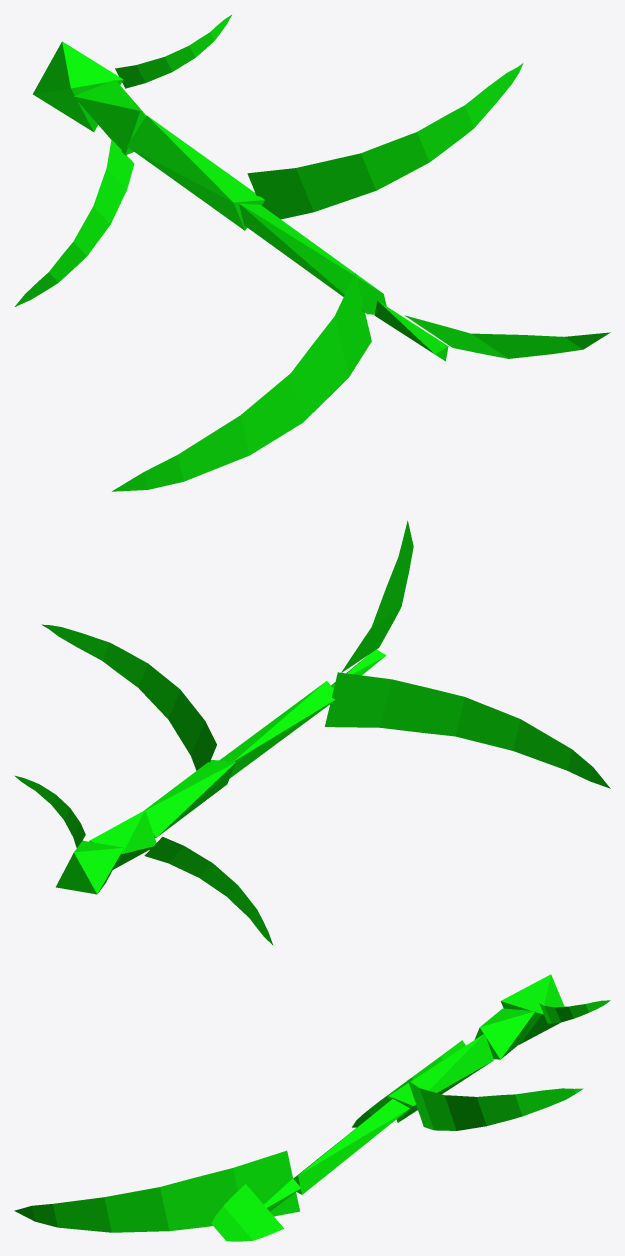
The model's file is usm_14_2.5D_2018-08-02_0.obj.
3 views of the same model, one above another, from view 1: azimuth 30°, elevation 25°; view 2: azimuth 150°, elevation 25°; view 3: azimuth 330°, elevation 25° (orthographic). The views are drawn at different scales.
Parts seen in each view (by area): view 1: vid_10, vid_8, vid_7, vid_9, vid_6, vid_3, vid_12, vid_5, vid_4, vid_11; view 2: vid_10, vid_8, vid_7, vid_9, vid_6, vid_12, vid_3, vid_5, vid_4; view 3: vid_10, vid_8, vid_7, vid_9, vid_12, vid_3, vid_5, vid_4, vid_6, vid_11.
Part boxes in pixels (x1,y1,x2,y2): vid_10: (112, 273, 371, 491); vid_8: (247, 63, 523, 219); vid_7: (127, 115, 264, 230); vid_9: (239, 203, 386, 314); vid_6: (15, 139, 134, 306); vid_3: (33, 41, 123, 131); vid_12: (404, 315, 610, 358); vid_5: (74, 80, 146, 155); vid_4: (115, 15, 231, 88); vid_11: (374, 300, 448, 361); vid_10: (325, 672, 610, 788); vid_8: (41, 624, 216, 770); vid_7: (144, 760, 236, 837); vid_9: (219, 681, 335, 777); vid_6: (144, 836, 273, 945); vid_12: (341, 520, 413, 672); vid_3: (56, 840, 123, 894); vid_5: (89, 810, 156, 869); vid_4: (14, 775, 85, 847); vid_10: (14, 1150, 300, 1232); vid_8: (408, 1080, 583, 1130); vid_7: (388, 1033, 493, 1122); vid_9: (293, 1099, 409, 1194); vid_12: (211, 1184, 284, 1241); vid_3: (500, 974, 564, 1044); vid_5: (474, 1008, 535, 1059); vid_4: (539, 1000, 610, 1023); vid_6: (352, 1040, 465, 1127); vid_11: (262, 1178, 300, 1211).
Size of the model in its own units: 34.26 by 13.14 by 50.91.
